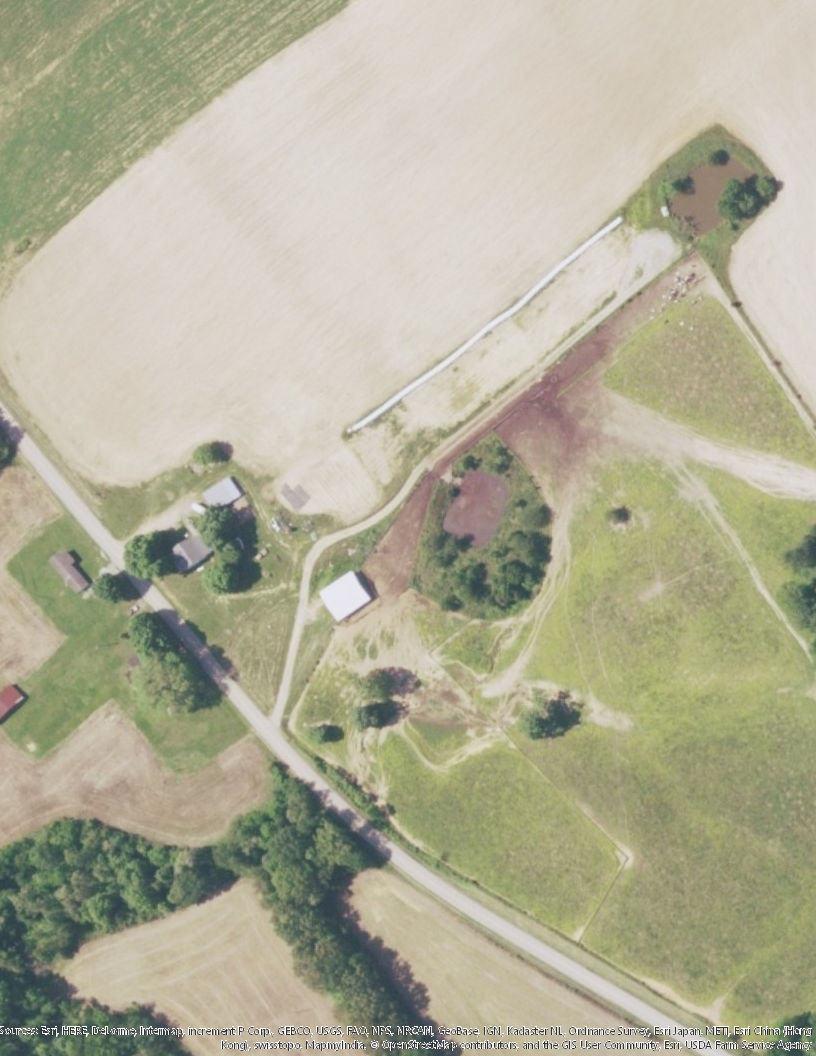cafo: (314, 566, 381, 622)
